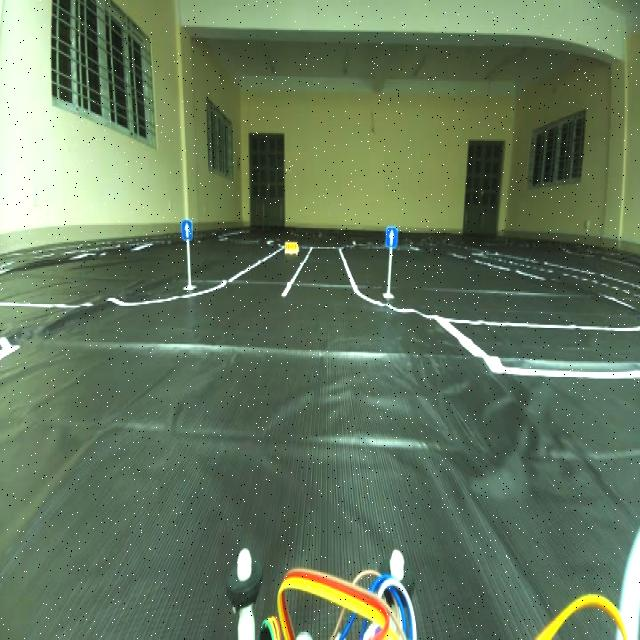onewayroad: (380, 222, 400, 256), (176, 217, 193, 246)
roadblock: (282, 234, 298, 263)
